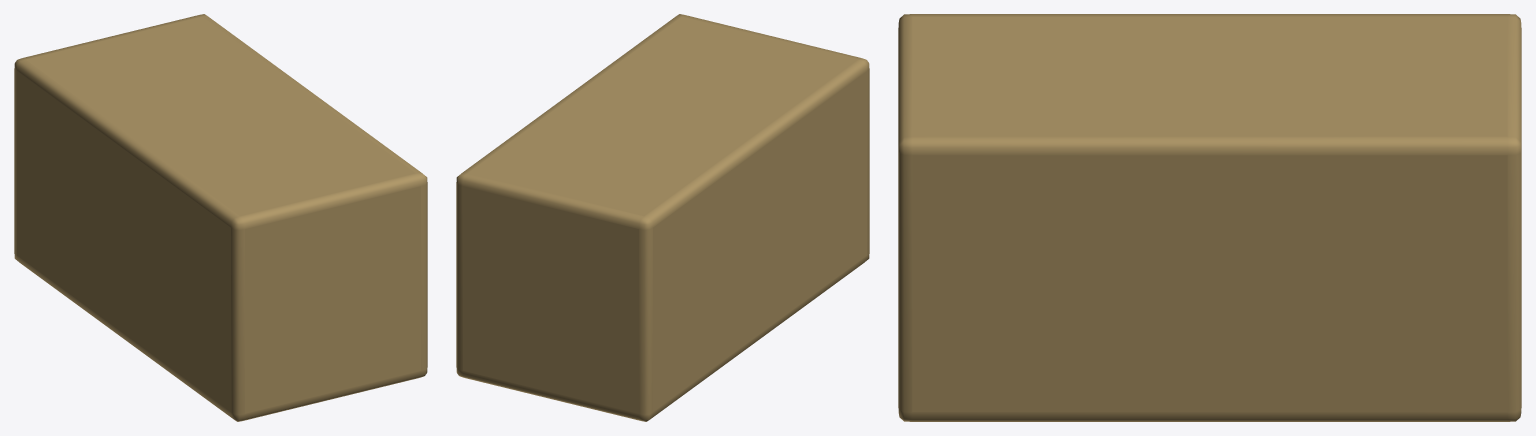
File: TVStand.glb
3 renders of one model, left to right at view 1: azimuth 30°, elevation 25°; view 2: azimuth 150°, elevation 25°; view 3: azimuth 270°, elevation 25°, orthographic. The views are drawn at different scales.
Visible parts, largest first — view 1: TV Stand; view 2: TV Stand; view 3: TV Stand.
Boxes of the visible parts, x1,y1,x2,y2 form: TV Stand: (14,14,427,421); TV Stand: (456,14,869,421); TV Stand: (898,14,1521,421).
Size of the model in its own units: 0.75 by 0.75 by 1.5.
